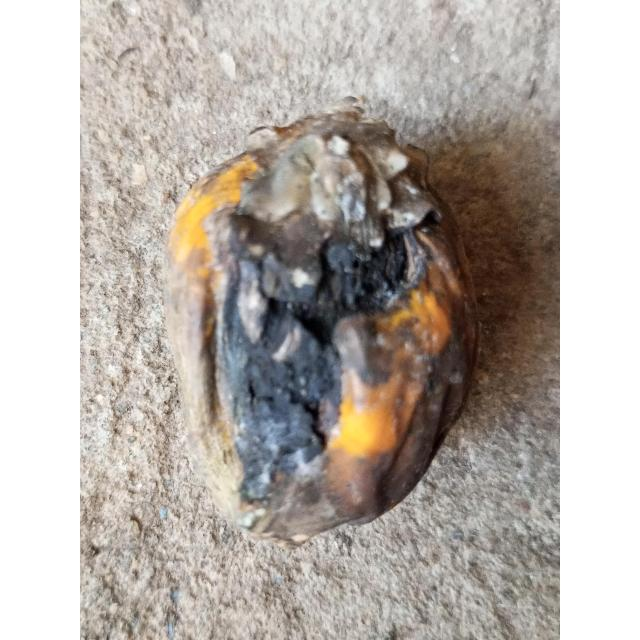damaged: (163, 98, 480, 550)
